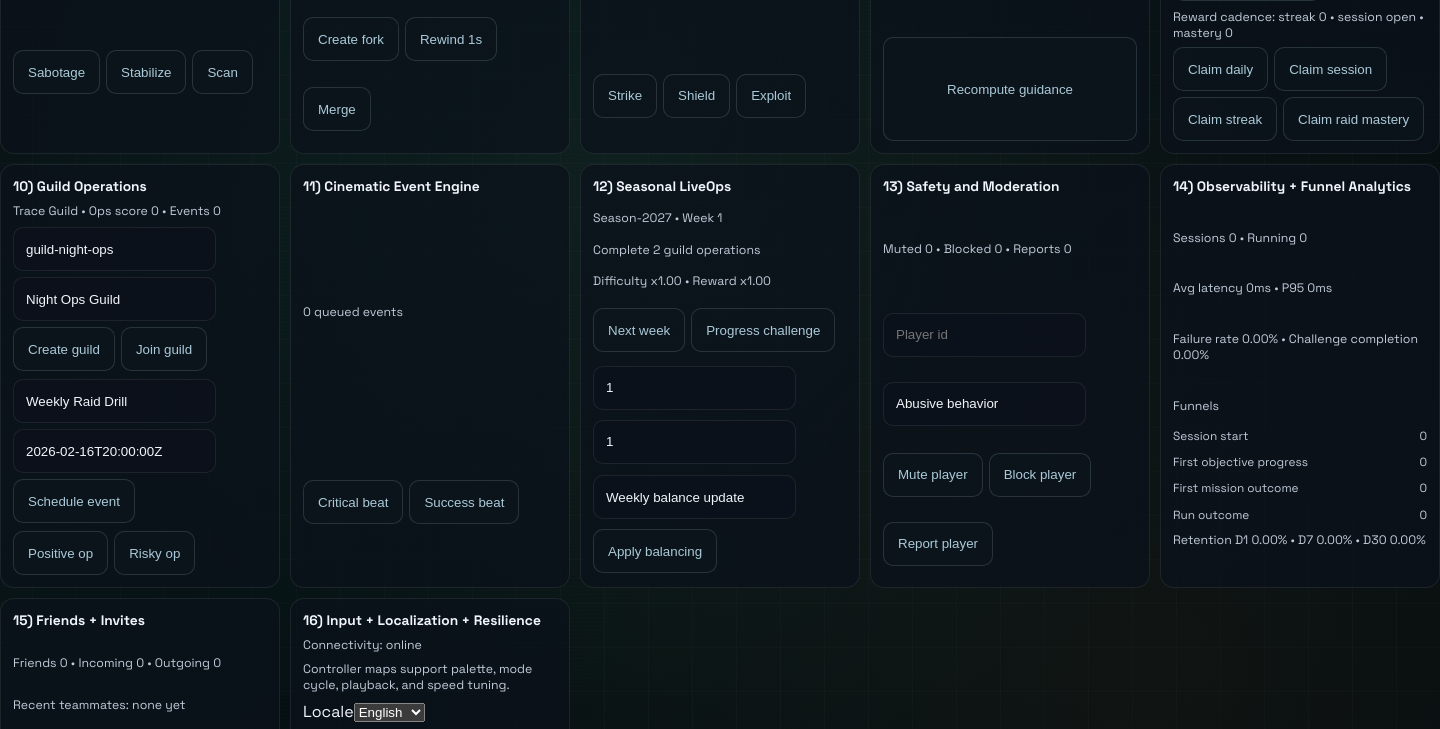
Scenario: GameplayMode › tracks safety moderation actions
The image size is (1440, 729).
(page scrolled)
In the field named "Safety player id": [984, 334] box [883,312,1086,356], type "griefer-9"
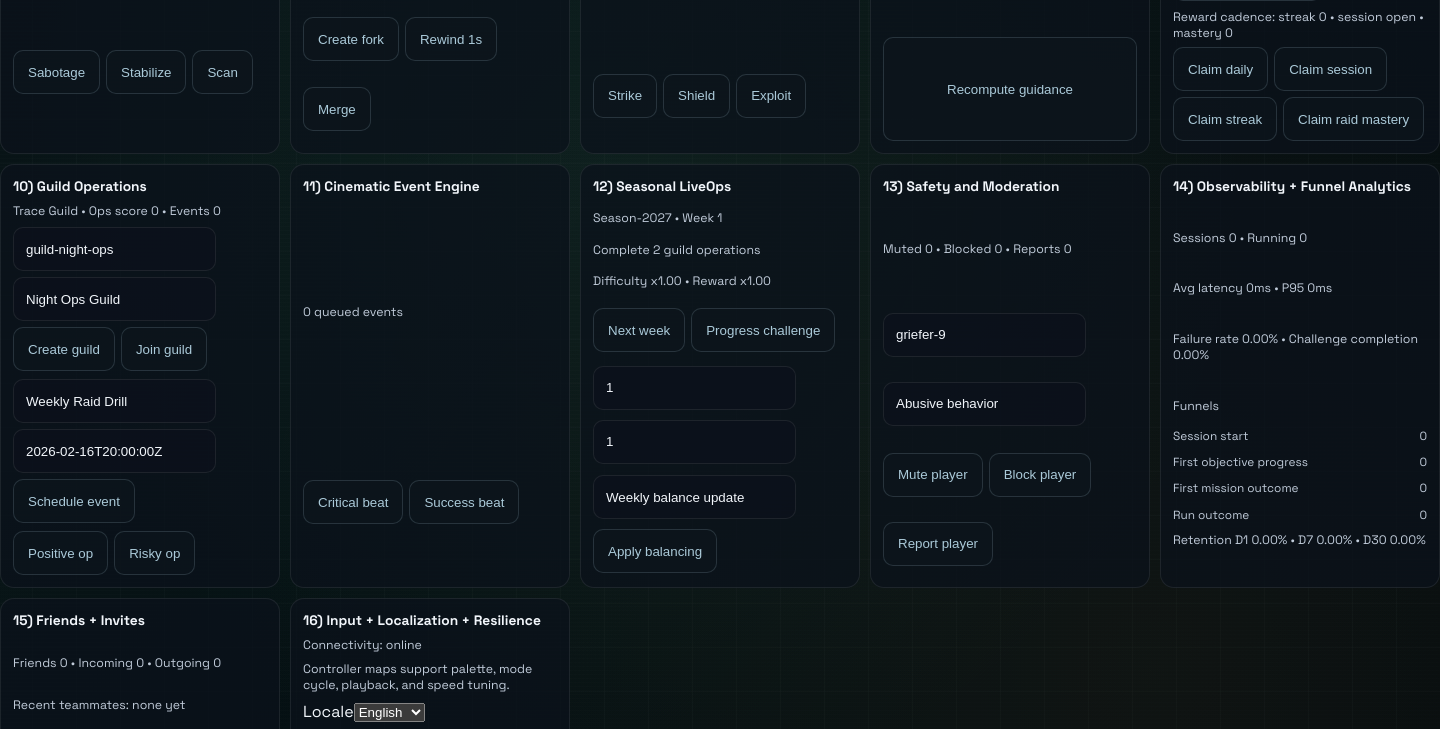
Replace the text in the field named "Safety reason" with "Abuse in chat": [984, 404] box [883,382,1086,426]
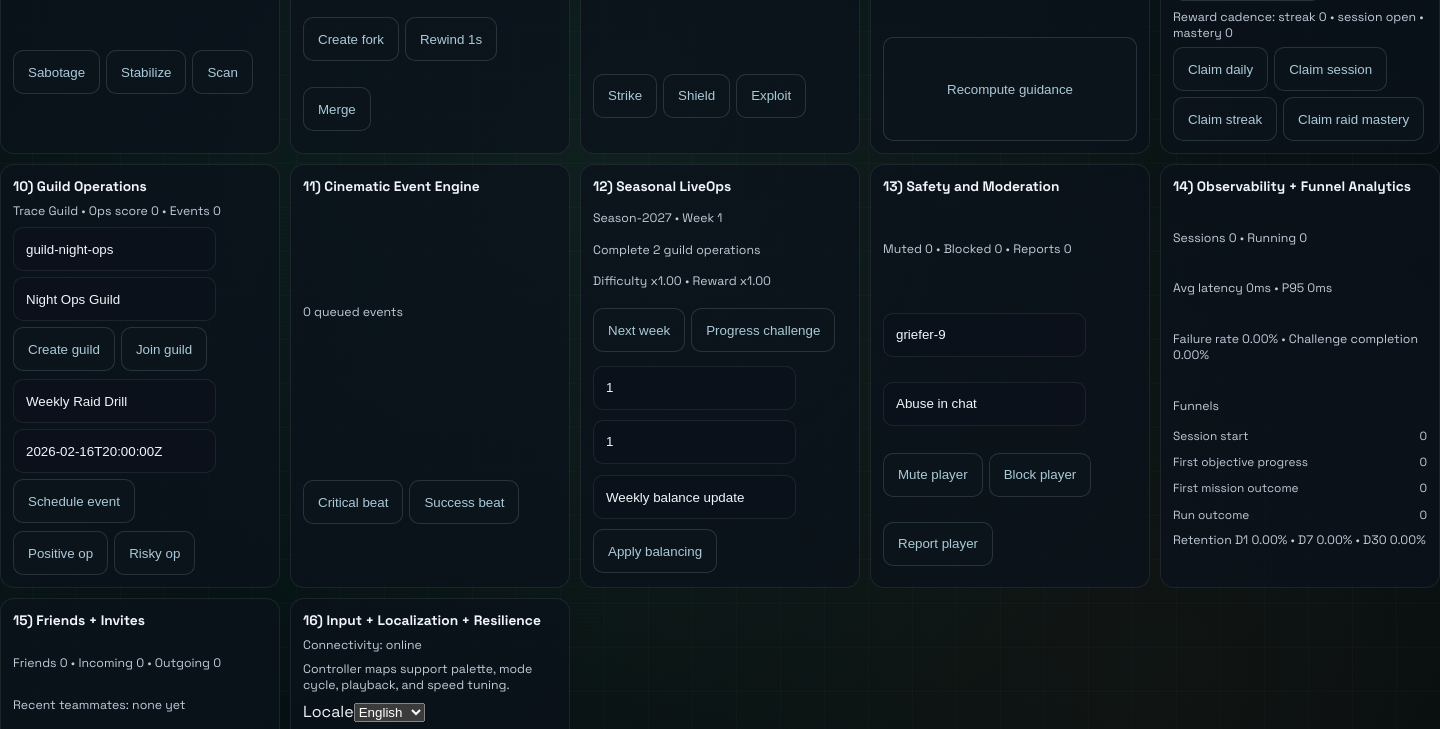
Click the button "Mute player": [933, 474] box [883,452,983,496]
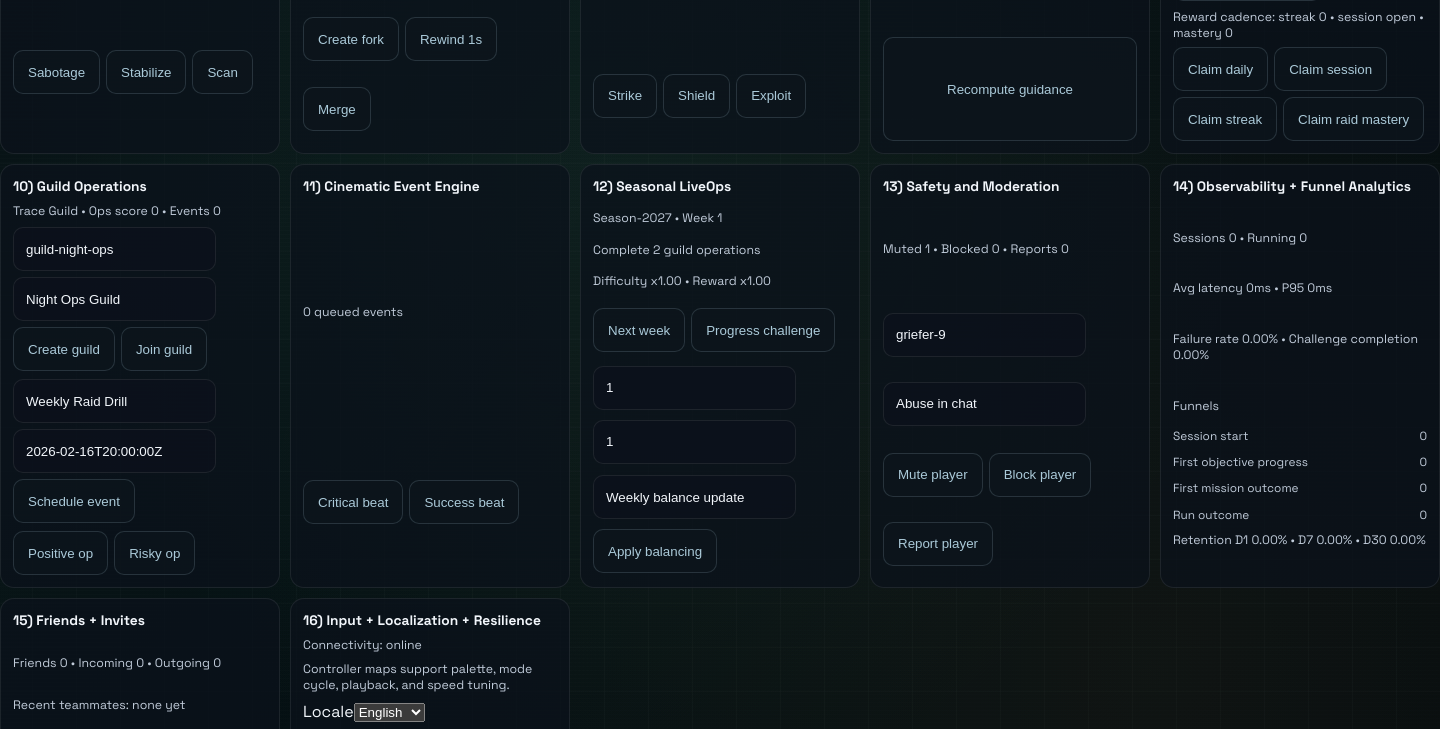
Click the button "Report player": [938, 544] box [883,522,993,566]
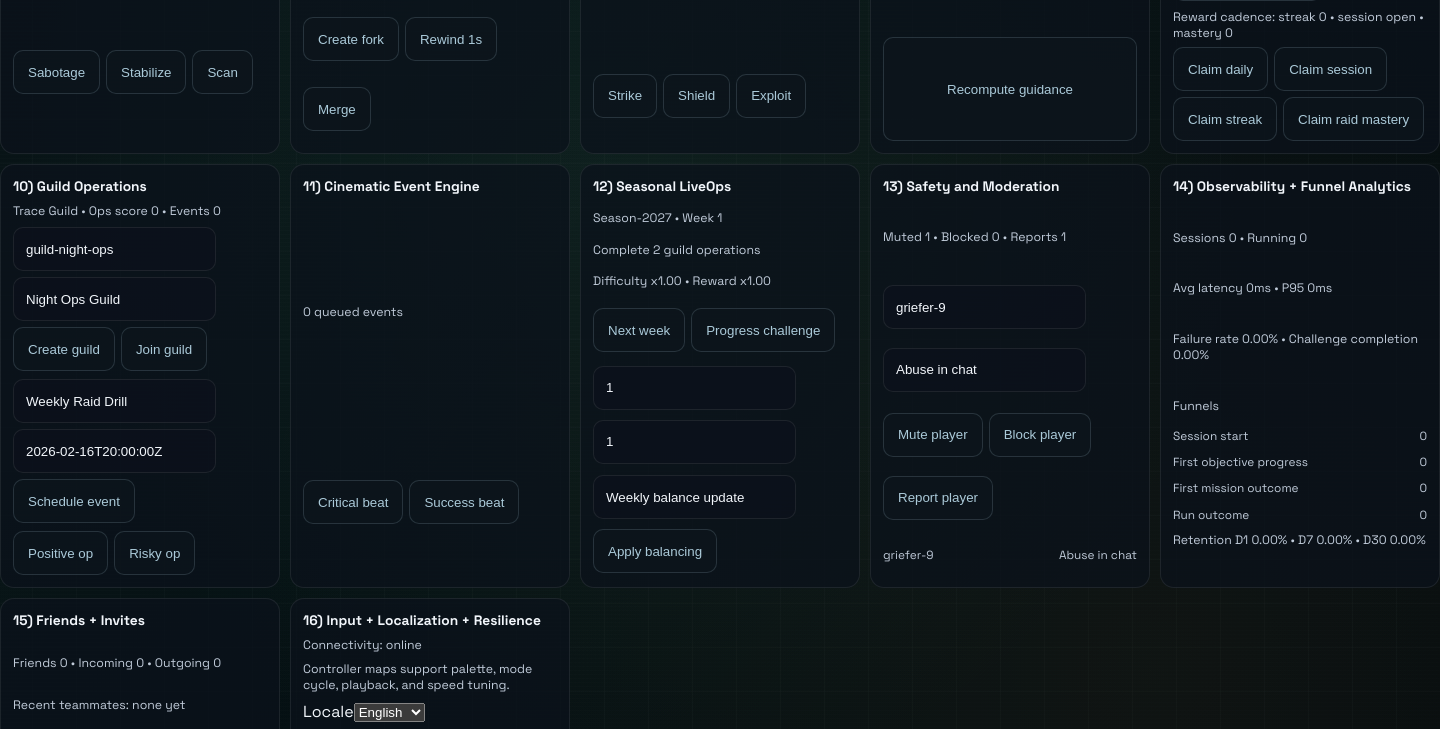
Now the text "Muted 1 • Blocked 0 • Reports 1" is shown, box [883,229,1066,245]
Now the text "Abuse in chat" is shown, box [1059,547,1137,562]
